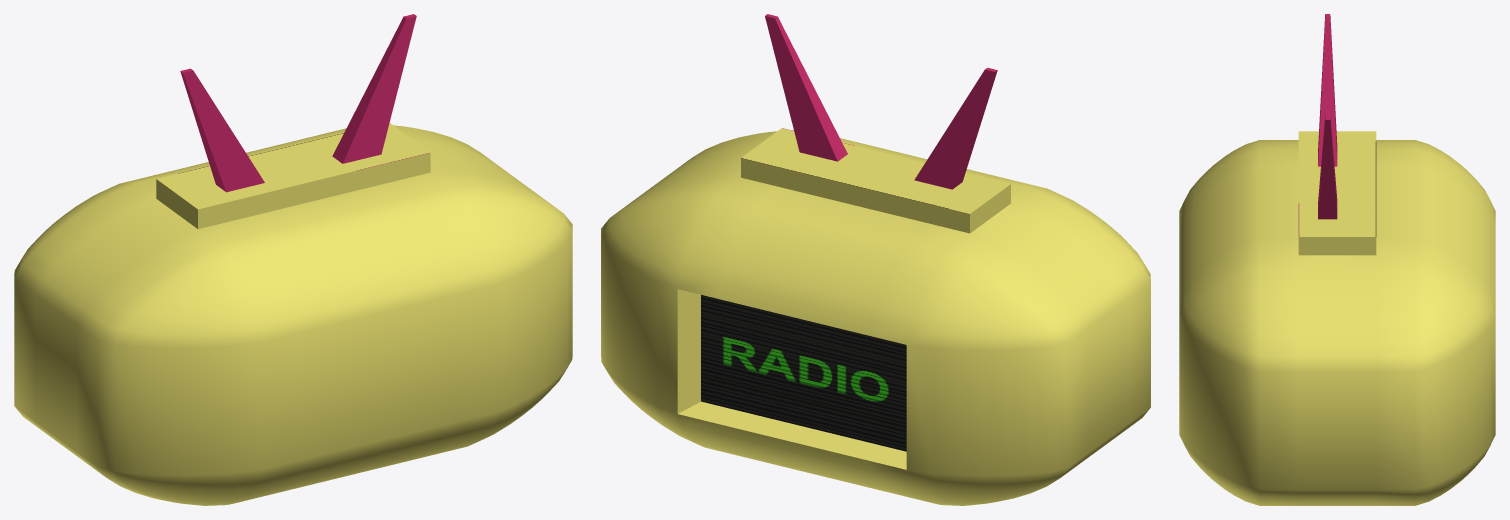
Rendered from radio.fbx.
The picture shows the model from 3 angles, left to right: view 1: azimuth 30°, elevation 25°; view 2: azimuth 150°, elevation 25°; view 3: azimuth 270°, elevation 25°; orthographic projection. The views are drawn at different scales.
Parts seen in each view (by area): view 1: Radio; view 2: Radio; view 3: Radio.
Part boxes in pixels (bbox=[...]): Radio: bbox=[14, 14, 572, 505]; Radio: bbox=[601, 14, 1150, 505]; Radio: bbox=[1179, 14, 1495, 505].
Size of the model in its own units: 128 by 104 by 79.51.
